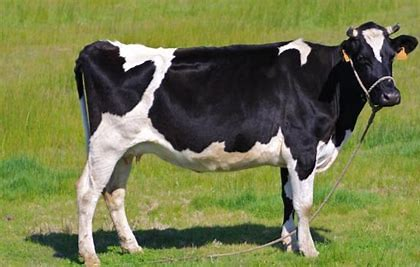waka: (36, 17, 409, 257)
